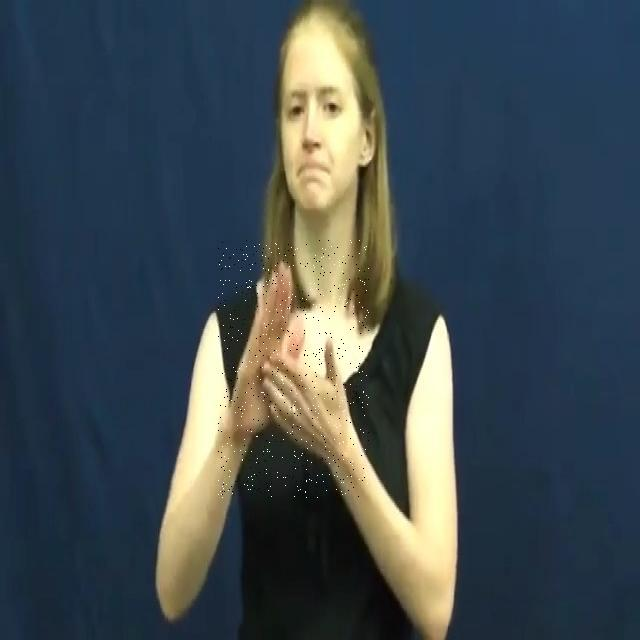fresh: (218, 240, 369, 498)
